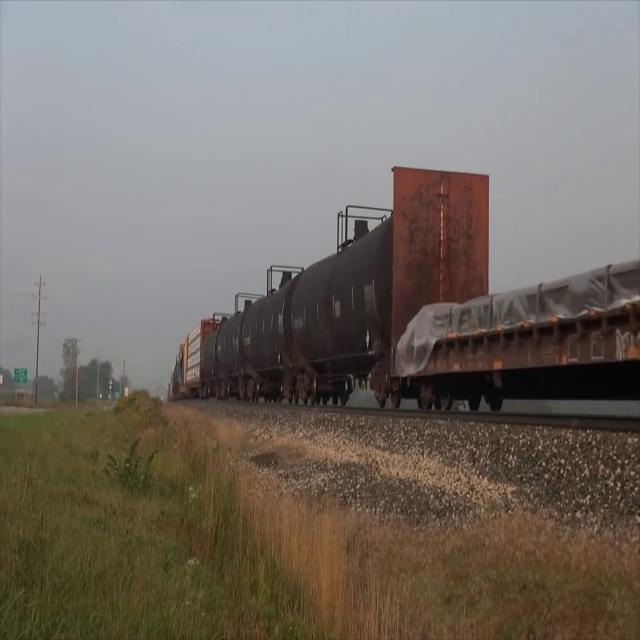cargo: (406, 250, 640, 348)
flatcar_bulkhead: (387, 160, 640, 415)
tank: (289, 203, 392, 420), (241, 262, 293, 407), (216, 299, 243, 405)
